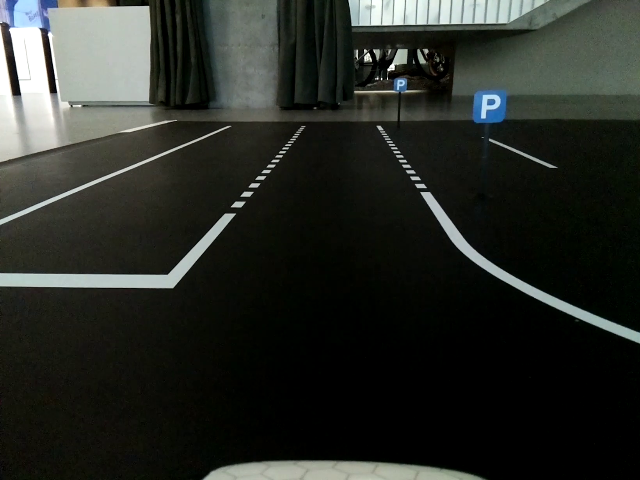park: (472, 92, 504, 123), (394, 78, 408, 91)
